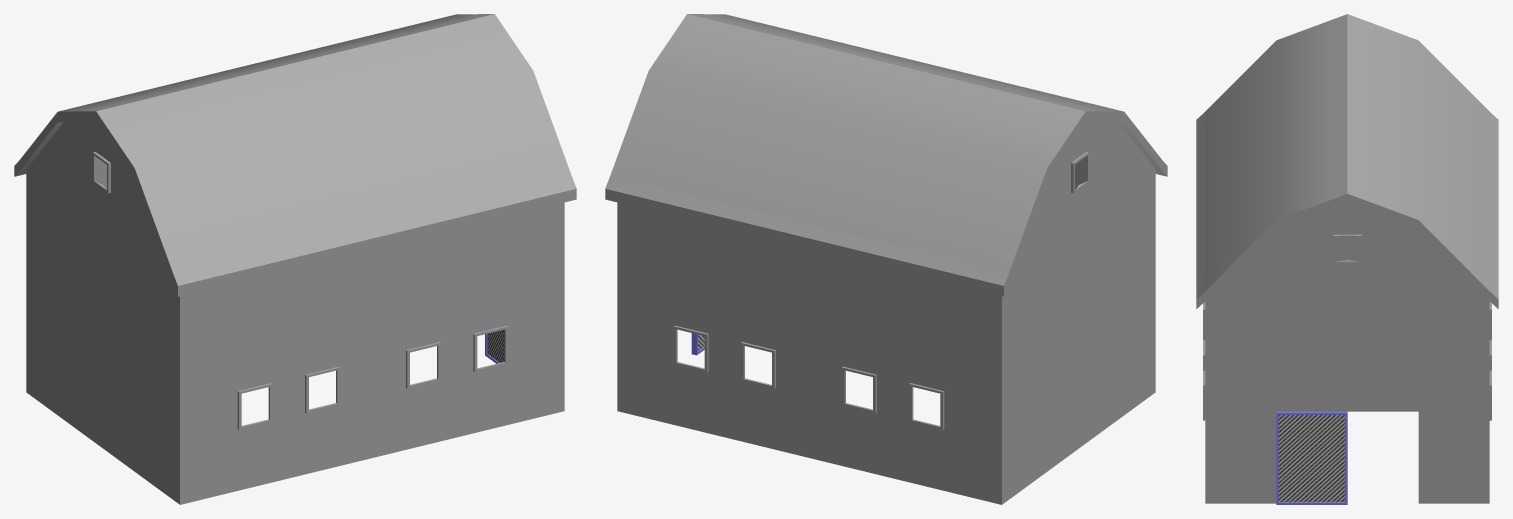
The model's file is Barn-v2.fbx.
The picture shows the model from 3 angles, left to right: view 1: azimuth 30°, elevation 25°; view 2: azimuth 150°, elevation 25°; view 3: azimuth 270°, elevation 25°; orthographic projection. The views are drawn at different scales.
Visible parts, largest first — view 1: Barn; view 2: Barn; view 3: Barn, Gate.
Part boxes in pixels (x1,y1,x2,y2): Barn: [14, 14, 576, 504]; Barn: [605, 14, 1167, 504]; Barn: [1196, 14, 1498, 503]; Gate: [1276, 411, 1347, 504].
Size of the model in its own units: 187 by 152 by 133.
